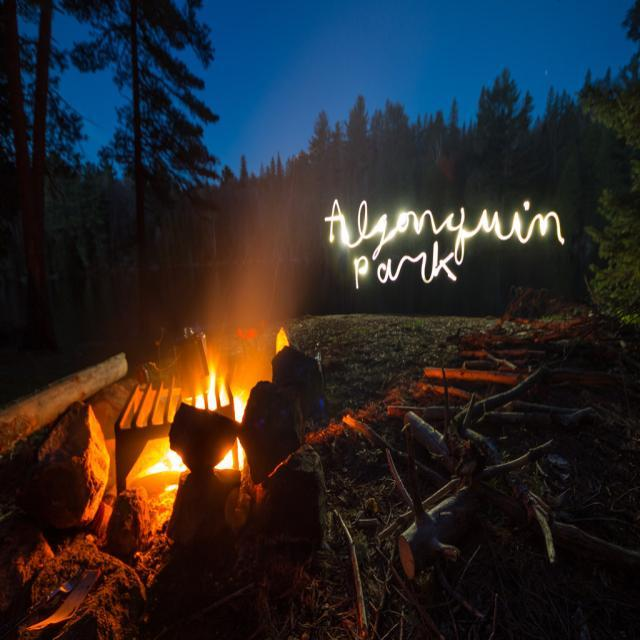Fire: (199, 384, 227, 408), (233, 376, 243, 429), (220, 448, 242, 471)
